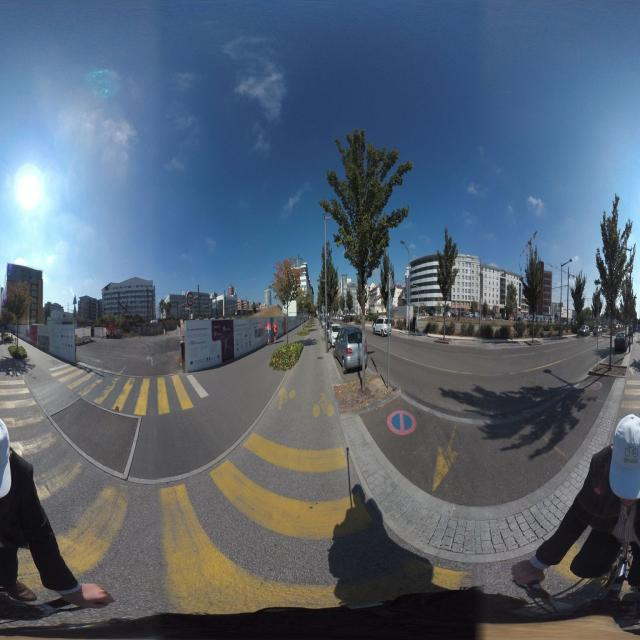car: (335, 324, 366, 374), (424, 310, 454, 334), (327, 322, 341, 349), (373, 316, 390, 336), (614, 332, 628, 354)
